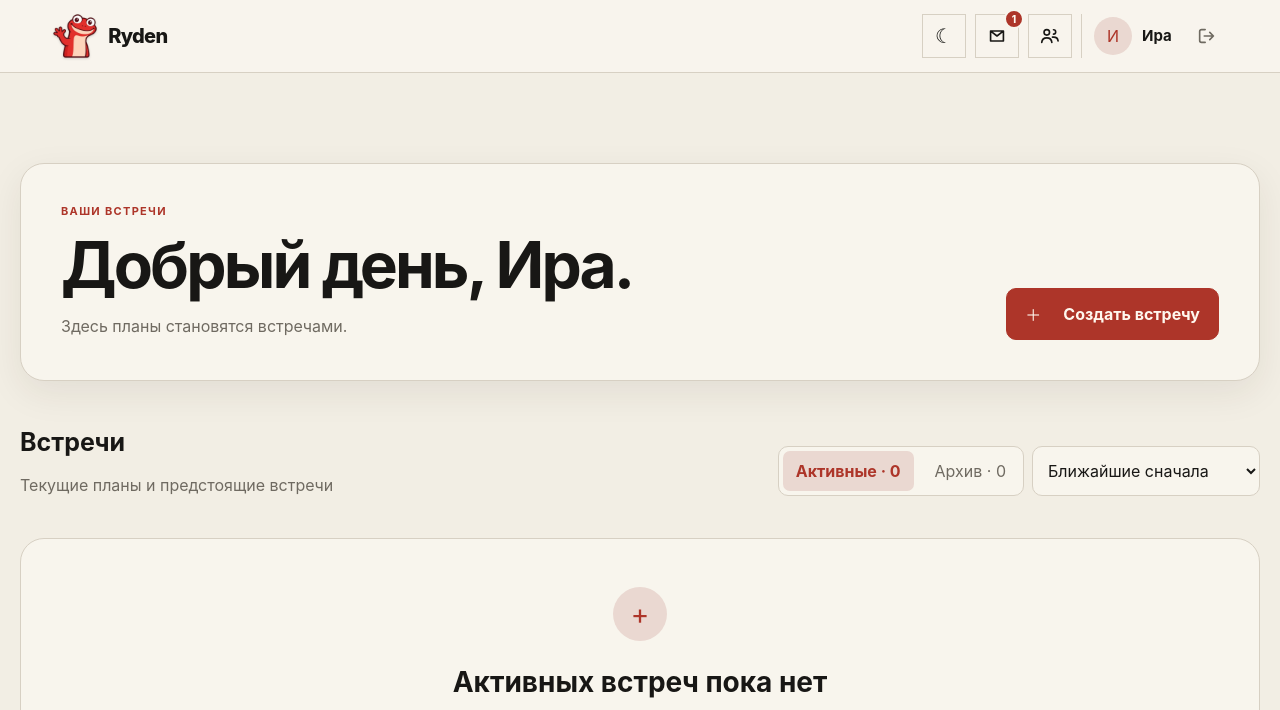
it: App › shows incoming meeting invitations in the header and lets the invitee decline
The width and height of the screenshot is (1280, 710).
Click the button named "Приглашения на встречи: 1" at (997, 36), box [975,14,1019,58]
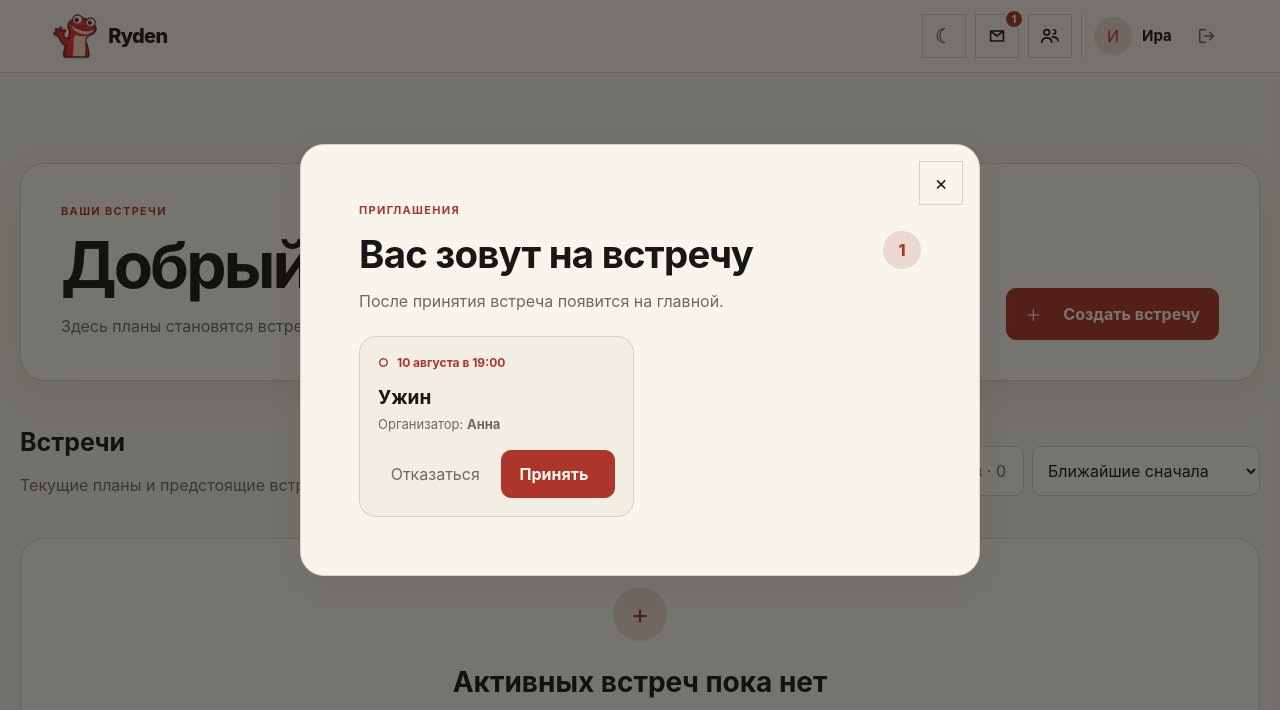
Check: the dialog "Вас зовут на встречу" is shown, box [300,144,980,576]
Check: the heading "Ужин" is shown, box [378,386,431,409]
Click the button "Отказаться" at (435, 474), box [378,450,492,498]
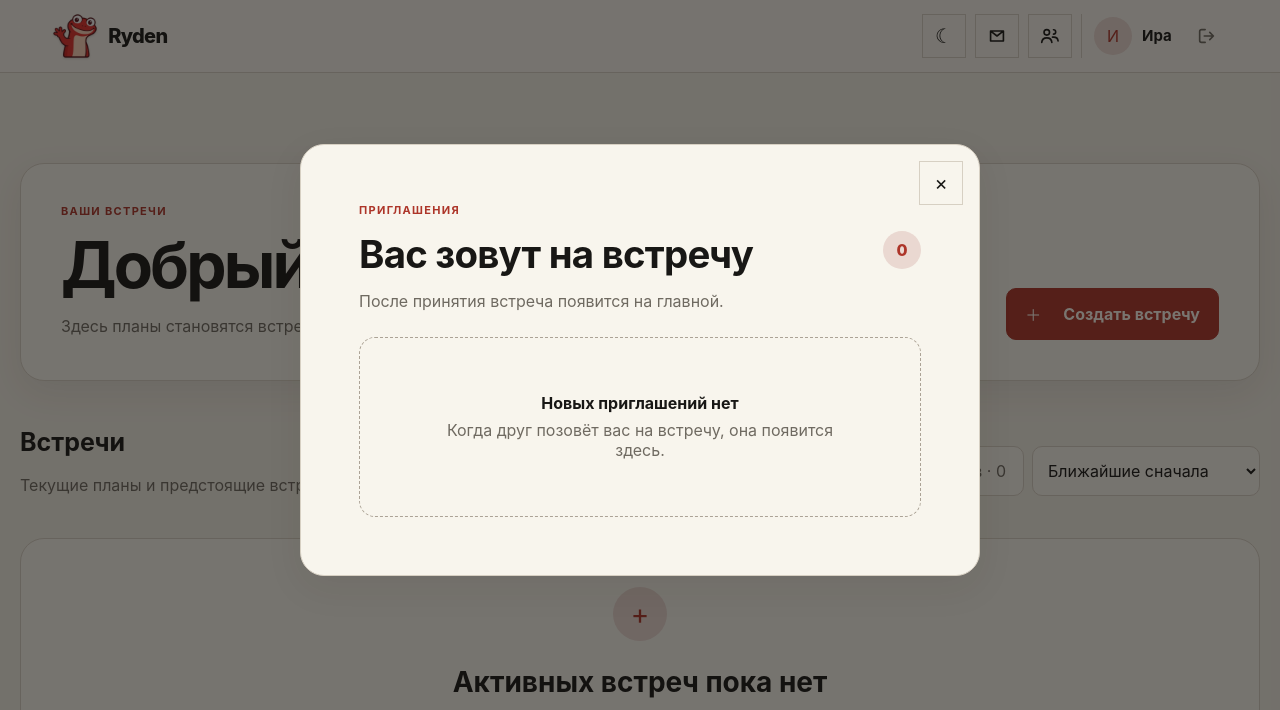
Check: the text "Новых приглашений нет" is shown, box [541,393,739,413]
